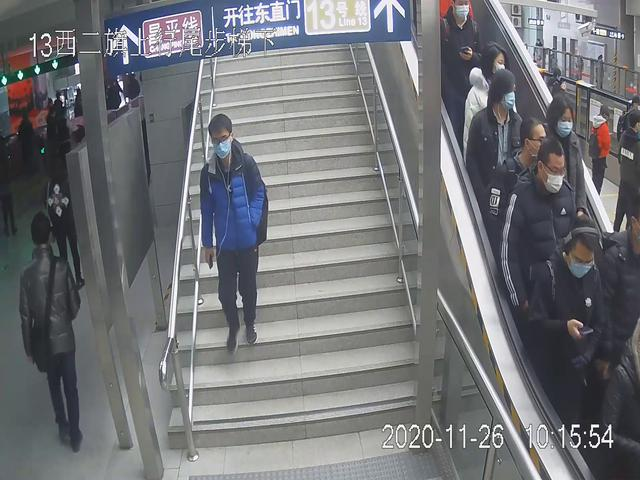person: (529, 213, 612, 434), (18, 207, 90, 453), (201, 113, 272, 360), (501, 138, 579, 359)
